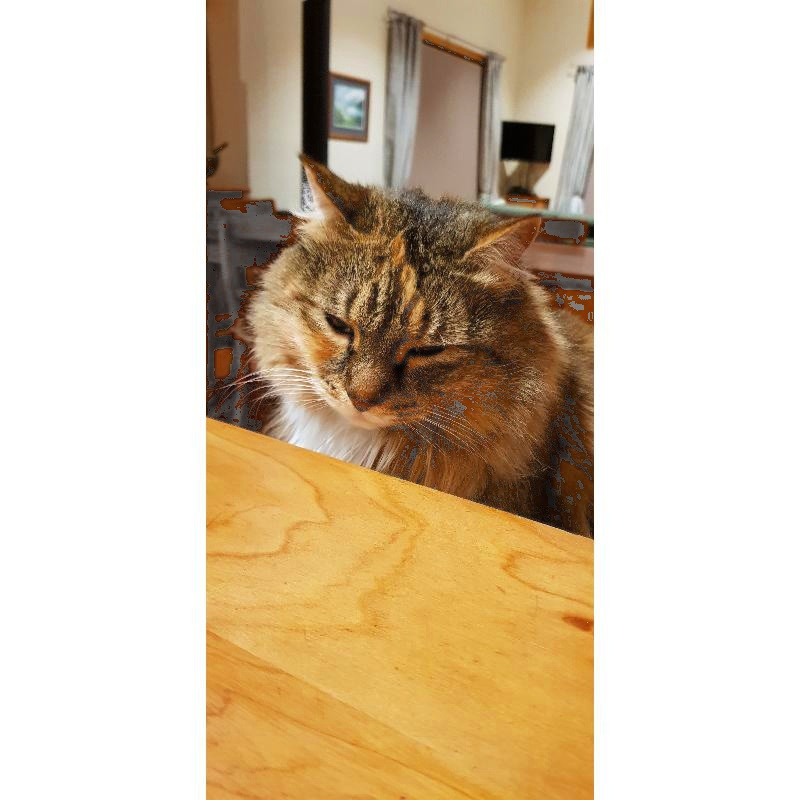yellow: (232, 159, 594, 536)
